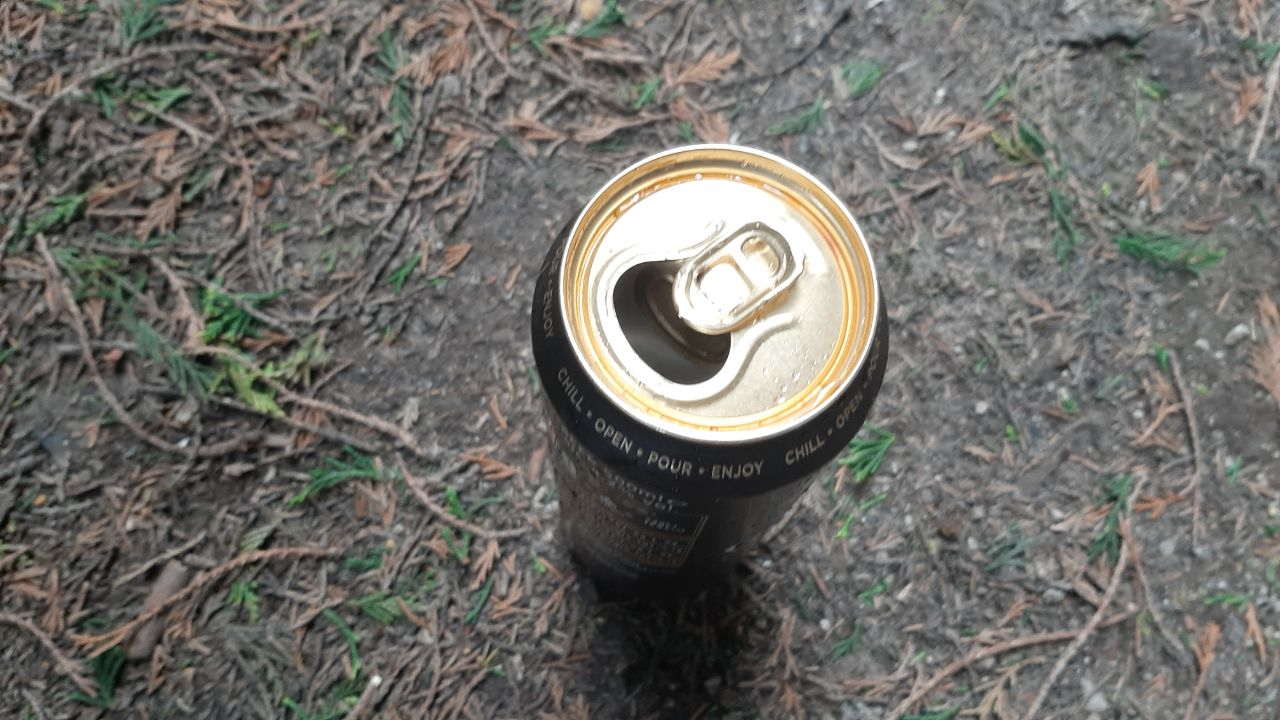Can: (508, 123, 908, 629)
